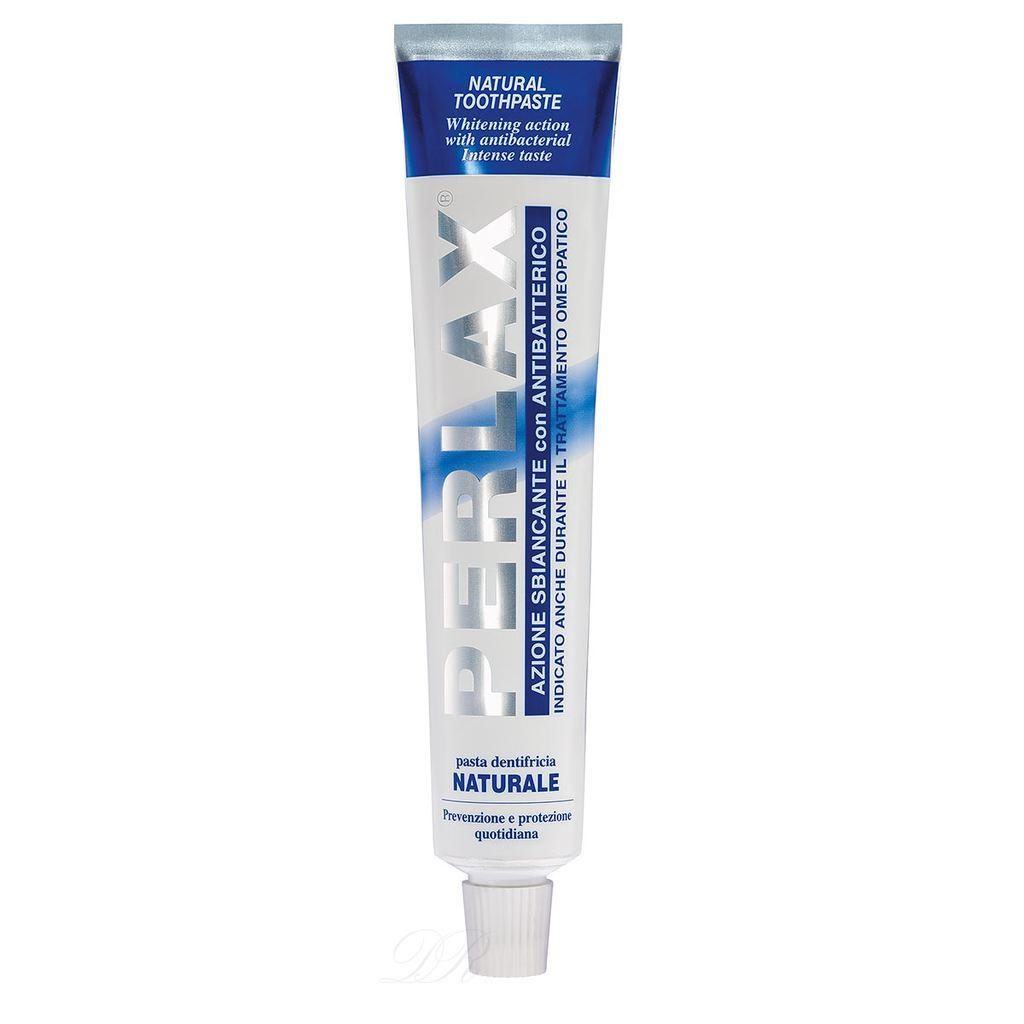toothpaste: (369, 0, 675, 986)
